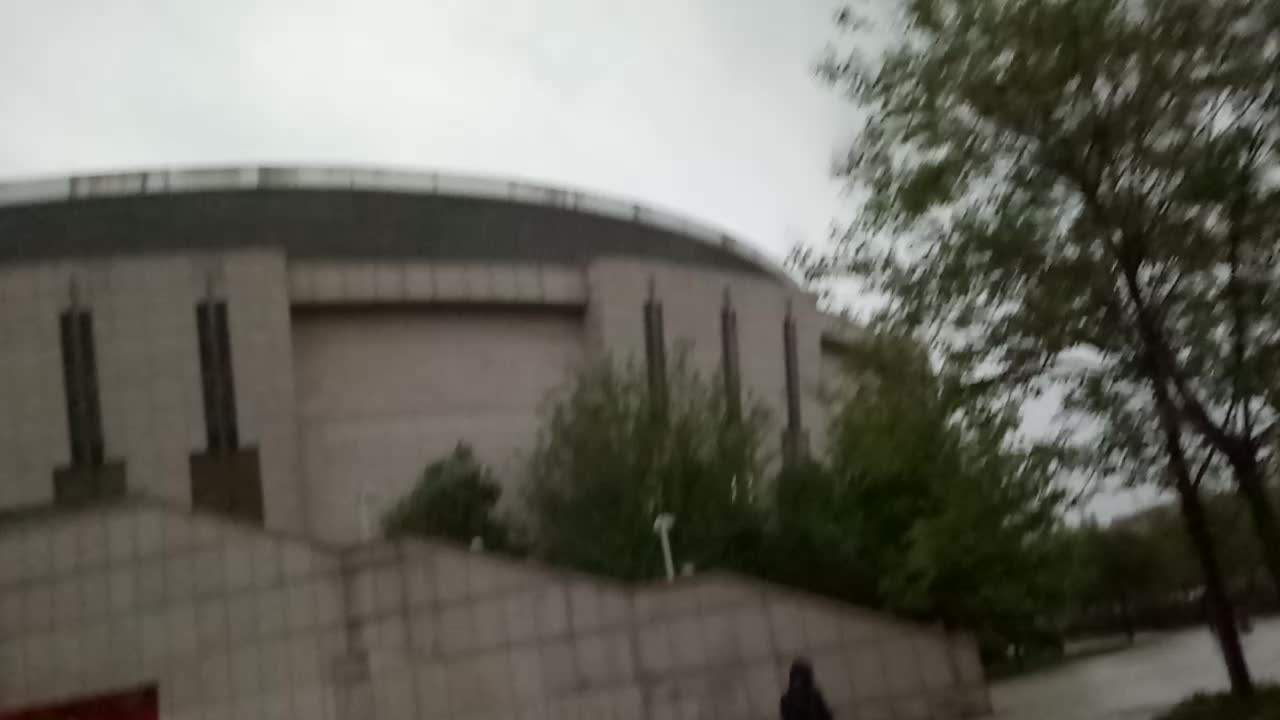zhongtiww: (1, 139, 1008, 720)
